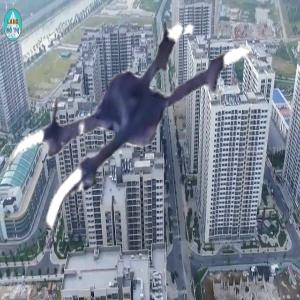drone: (9, 5, 275, 271)
